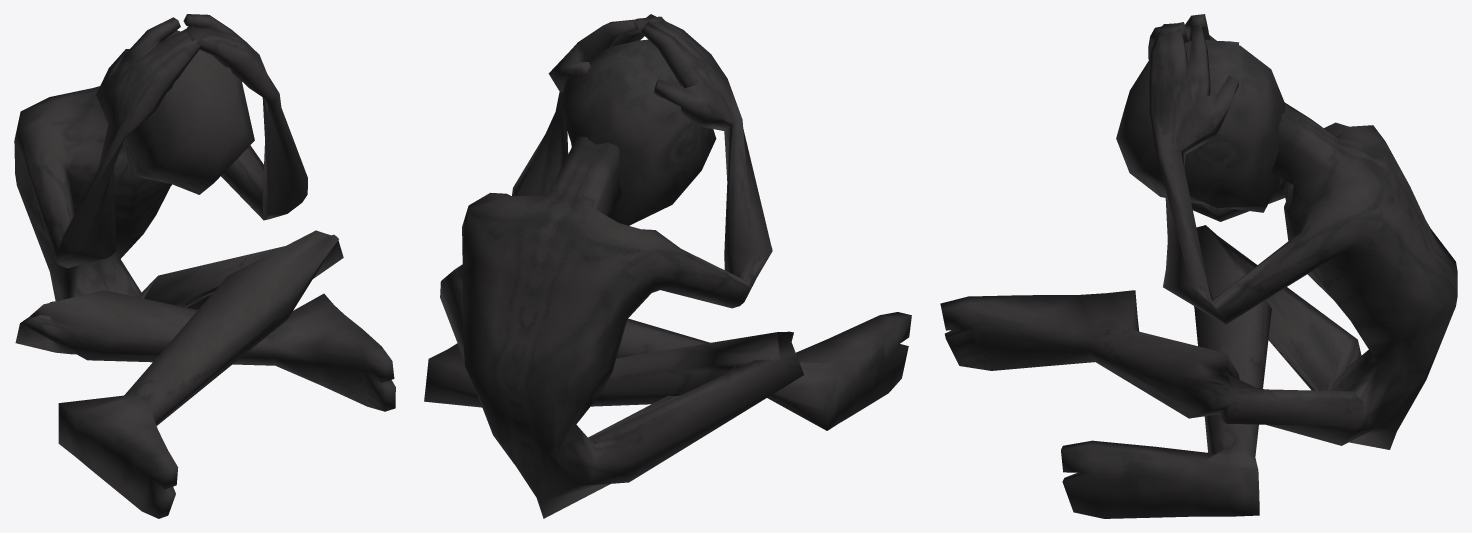
File: GhostMainBody002.fbx
The picture shows the model from 3 angles, left to right: view 1: azimuth 30°, elevation 25°; view 2: azimuth 150°, elevation 25°; view 3: azimuth 270°, elevation 25°; orthographic projection. The views are drawn at different scales.
Visible parts, largest first — view 1: Ghoul Body.008, Ghoul Head.003; view 2: Ghoul Body.008, Ghoul Head.003; view 3: Ghoul Body.008, Ghoul Head.003.
Part boxes in pixels (x1,y1,x2,y2): Ghoul Body.008: (14, 14, 395, 518); Ghoul Head.003: (123, 30, 254, 194); Ghoul Body.008: (424, 14, 911, 518); Ghoul Head.003: (559, 39, 716, 225); Ghoul Body.008: (940, 14, 1457, 518); Ghoul Head.003: (1116, 39, 1285, 212).
Bounding box in the file's own units: 313 × 359 × 392.
